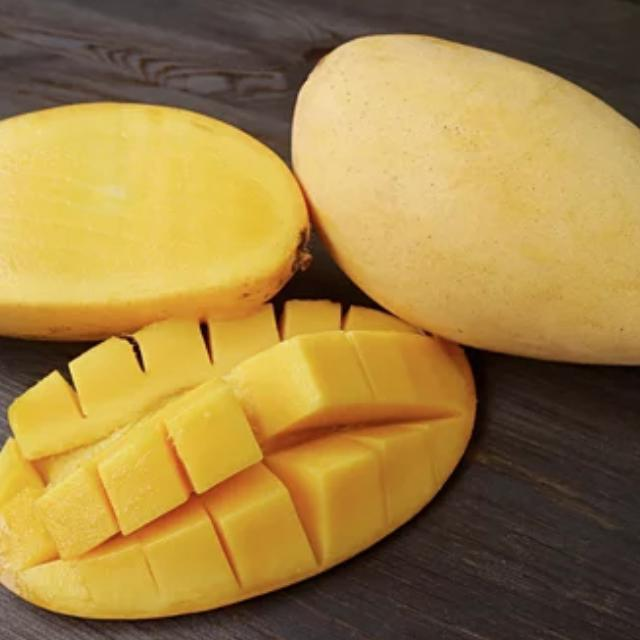mango: (289, 27, 640, 373)
